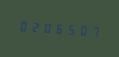five: (65, 20, 76, 38)
seven: (89, 22, 100, 39)
six: (53, 19, 64, 37)
two: (29, 17, 40, 35)
zero: (41, 18, 52, 36), (77, 21, 88, 39), (17, 17, 28, 34)
